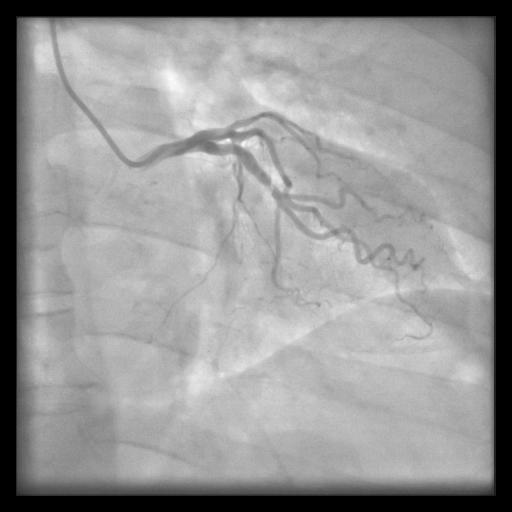Stenosis: (265, 175, 274, 195)
